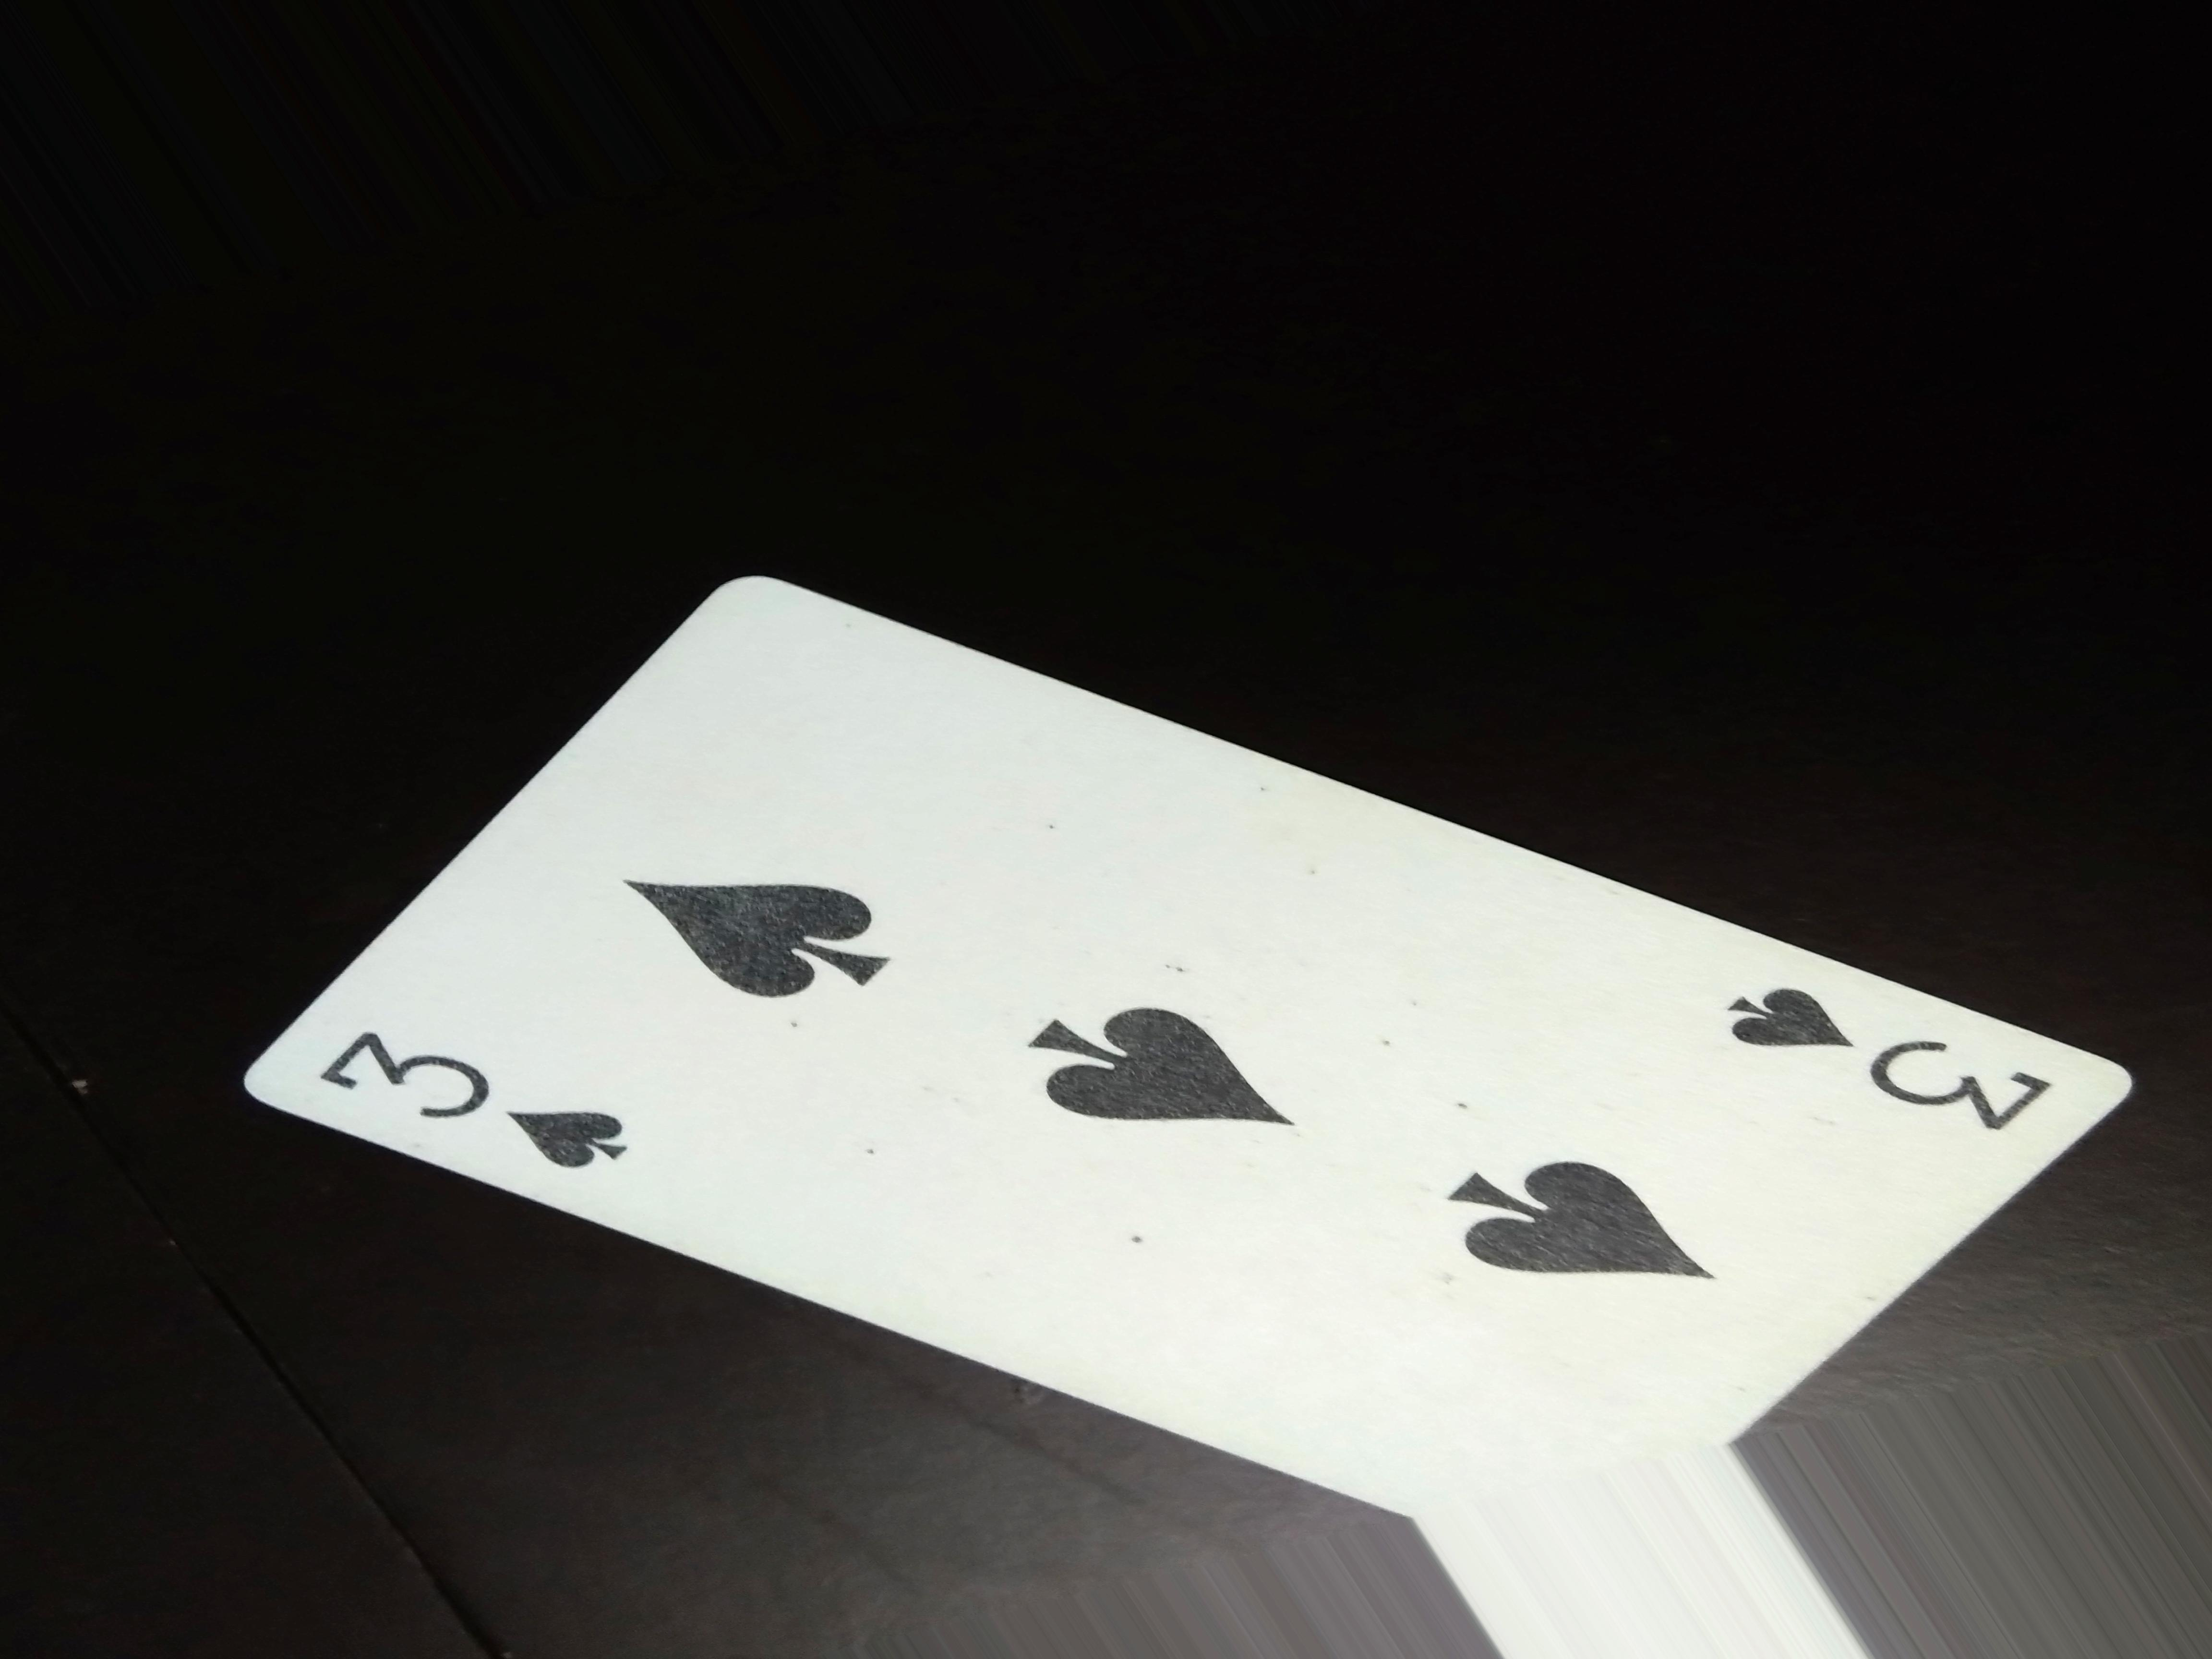3S: (319, 1014, 662, 1202)
